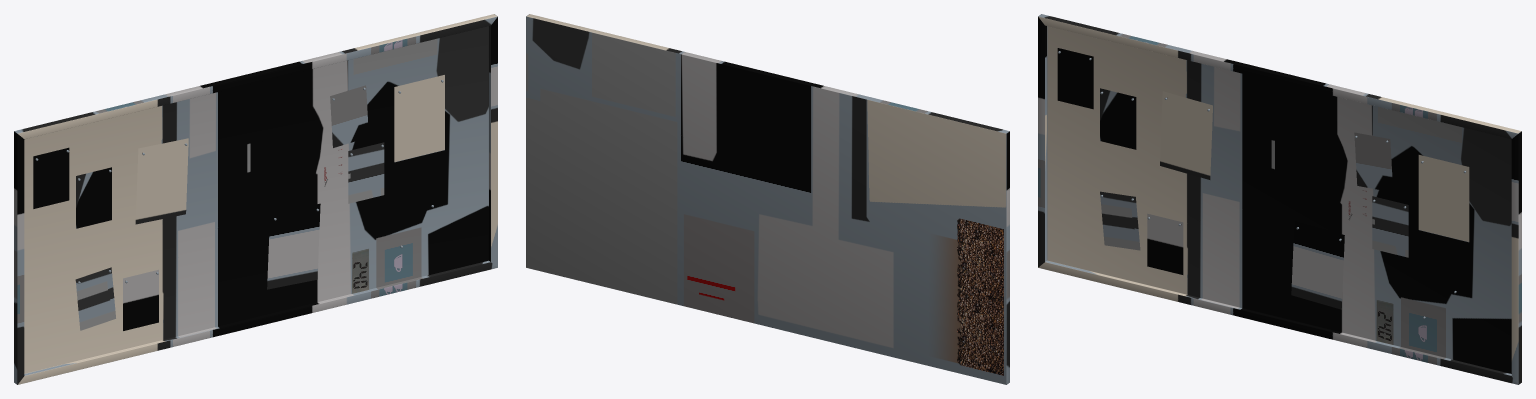
3 views of the same model, side by side, from view 1: azimuth 30°, elevation 25°; view 2: azimuth 150°, elevation 25°; view 3: azimuth 330°, elevation 25° (orthographic).
Parts seen in each view (by area): view 1: CorkBoard; view 2: CorkBoard; view 3: CorkBoard.
Boxes of the visible parts, x1=… form: CorkBoard: x1=14, y1=14, x2=497, y2=384; CorkBoard: x1=526, y1=14, x2=1009, y2=384; CorkBoard: x1=1038, y1=14, x2=1521, y2=384.
Bounding box in the file's own units: 2 × 1 × 0.025.
